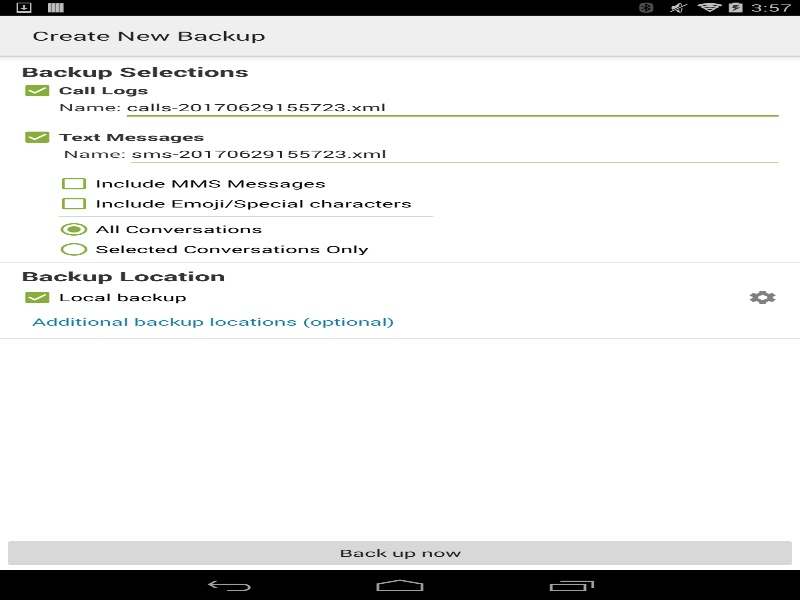Button: (2, 537, 797, 568)
Input: (126, 140, 784, 167), (121, 94, 784, 120)
